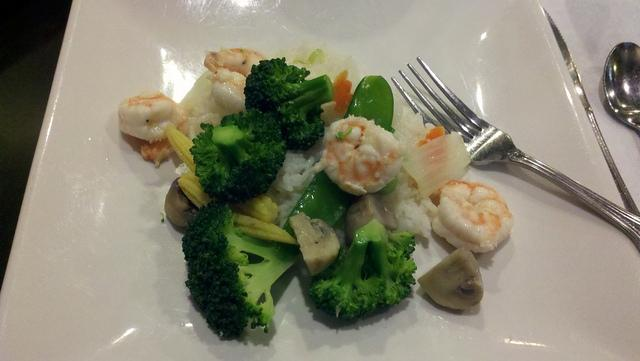broccoli: (182, 200, 304, 338), (308, 218, 417, 322), (190, 108, 288, 204), (243, 57, 334, 150)
mushroom: (418, 245, 483, 310), (290, 216, 338, 278), (344, 195, 398, 248), (164, 178, 200, 226)
